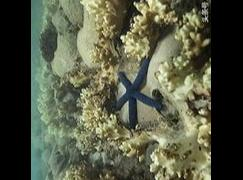bleached_corals: (148, 8, 212, 180), (145, 3, 223, 94), (77, 86, 151, 156), (25, 70, 90, 139), (88, 0, 127, 85), (82, 0, 125, 36), (64, 162, 121, 180)
